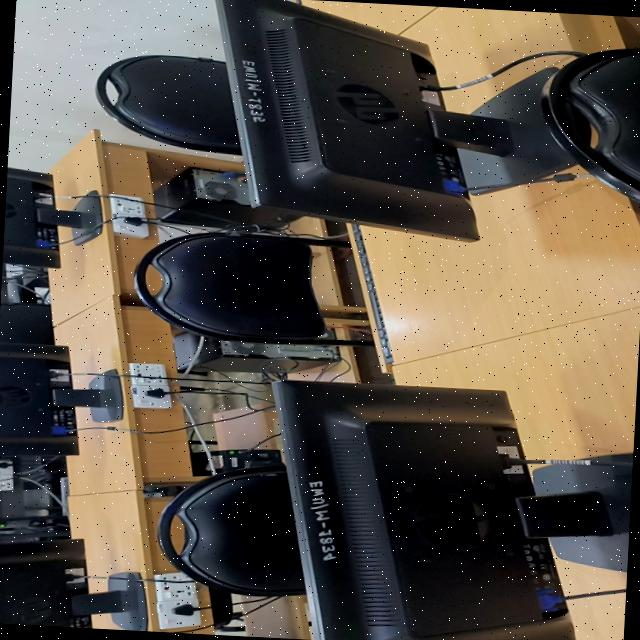Chair: (134, 226, 349, 343), (158, 463, 305, 595), (96, 54, 241, 154), (546, 48, 640, 202), (0, 302, 54, 344)
Cpu: (154, 166, 301, 228), (173, 331, 341, 372)
Monitor: (275, 379, 634, 640), (216, 0, 577, 241), (0, 341, 129, 456), (0, 538, 147, 631), (3, 166, 104, 267)
